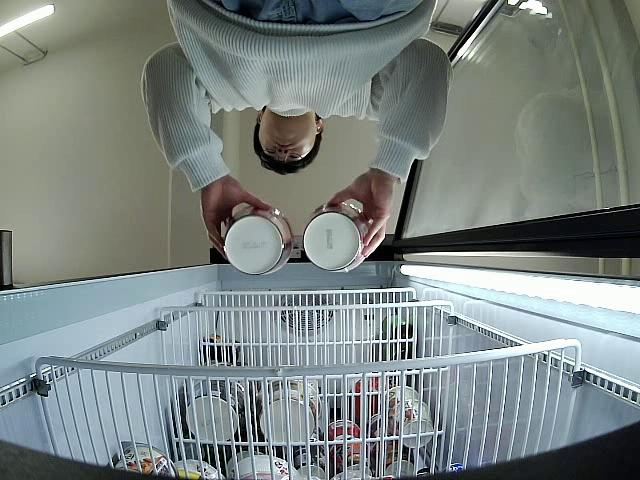00_hand: (328, 168, 397, 259), (200, 175, 273, 259)
01_shinRamen_L: (220, 204, 294, 277), (302, 201, 371, 273)
